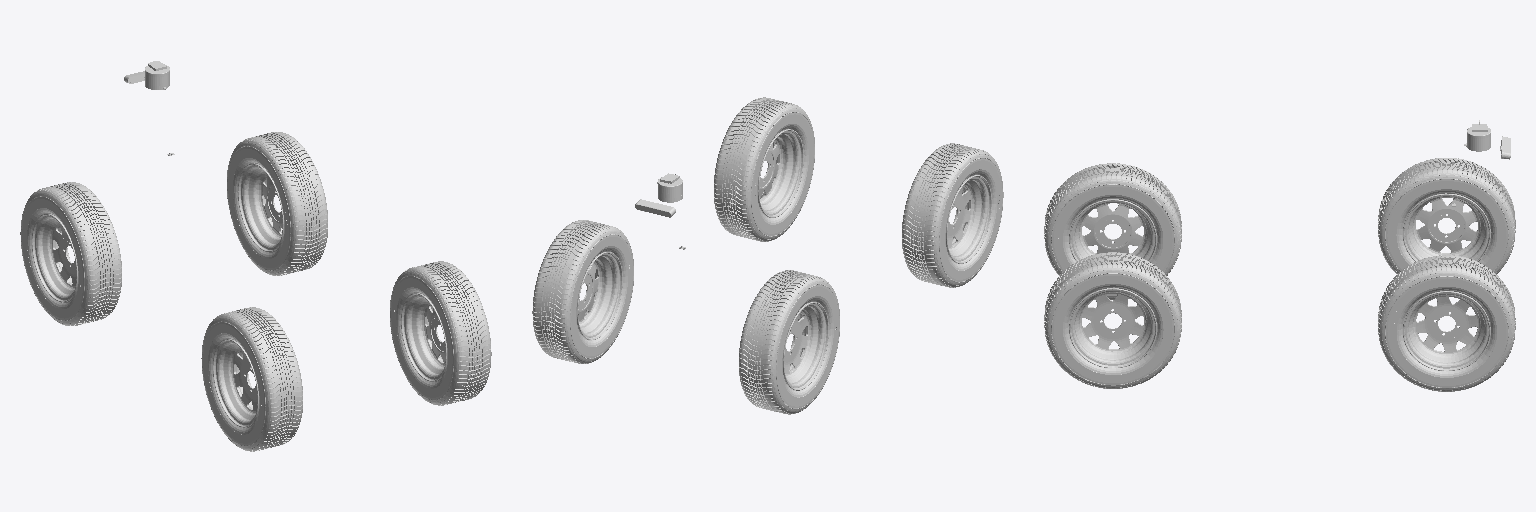
robot.urdf — RTK_Temu.SLDPRT:
<?xml version="1.0" encoding="utf-8"?>
<!-- This URDF was automatically created by SolidWorks to URDF Exporter! Originally created by Stephen Brawner (brawner@gmail.com) 
     Commit Version: 1.6.0-4-g7f85cfe  Build Version: 1.6.7995.38578
     For more information, please see http://wiki.ros.org/sw_urdf_exporter -->
<robot
  name="RTK_Temu.SLDPRT">
  <link
    name="Chasis_link">
    <inertial>
      <origin
        xyz="-0.0222986727626558 -0.103538876994477 0.130202562302216"
        rpy="0 0 0" />
      <mass
        value="30.2192194697933" />
      <inertia
        ixx="1.1404114097681"
        ixy="0.0547930702310783"
        ixz="0.0201944026363161"
        iyy="0.409771420291759"
        iyz="-0.0194016060635621"
        izz="1.45153548756467" />
    </inertial>
    <visual>
      <origin
        xyz="0 0 0"
        rpy="0 0 0" />
      <geometry>
        <mesh
          filename="package://RTK_Temu.SLDPRT/meshes/Chasis_link.STL" />
      </geometry>
      <material
        name="">
        <color
          rgba="0.894117647058823 0.894117647058823 0.894117647058823 1" />
      </material>
    </visual>
    <collision>
      <origin
        xyz="0 0 0"
        rpy="0 0 0" />
      <geometry>
        <mesh
          filename="package://RTK_Temu.SLDPRT/meshes/Chasis_link.STL" />
      </geometry>
    </collision>
  </link>
  <link
    name="front_right_wheel_link">
    <inertial>
      <origin
        xyz="-0.00566401631473373 9.90724435080415E-05 -0.000271963367299288"
        rpy="0 0 0" />
      <mass
        value="6.69183973985027" />
      <inertia
        ixx="0.357347212224778"
        ixy="-1.07740917030233E-07"
        ixz="4.64182261268584E-05"
        iyy="0.204903978015561"
        iyz="4.80243600331509E-06"
        izz="0.204920649676514" />
    </inertial>
    <visual>
      <origin
        xyz="0 0 0"
        rpy="0 0 0" />
      <geometry>
        <mesh
          filename="package://RTK_Temu.SLDPRT/meshes/front_right_wheel_link.STL" />
      </geometry>
      <material
        name="">
        <color
          rgba="0.894117647058823 0.894117647058823 0.894117647058823 1" />
      </material>
    </visual>
    <collision>
      <origin
        xyz="0 0 0"
        rpy="0 0 0" />
      <geometry>
        <mesh
          filename="package://RTK_Temu.SLDPRT/meshes/front_right_wheel_link.STL" />
      </geometry>
    </collision>
  </link>
  <joint
    name="front_right_wheel_joint"
    type="continuous">
    <origin
      xyz="0.49047 0.7137 0.045273"
      rpy="0 0.00030616 0" />
    <parent
      link="Chasis_link" />
    <child
      link="front_right_wheel_link" />
    <axis
      xyz="-1 0 -0.00030616" />
    <dynamics
      damping="0.5"
      friction="1" />
  </joint>
  <link
    name="front_left_wheel_link">
    <inertial>
      <origin
        xyz="0.00566402902001811 0.000174876625691156 0.000230333408740846"
        rpy="0 0 0" />
      <mass
        value="6.69183974290597" />
      <inertia
        ixx="0.357347211995644"
        ixy="2.73805309929157E-08"
        ixz="4.63975052563284E-05"
        iyy="0.204902723124111"
        iyz="7.69970830090359E-07"
        izz="0.204921904315497" />
    </inertial>
    <visual>
      <origin
        xyz="0 0 0"
        rpy="0 0 0" />
      <geometry>
        <mesh
          filename="package://RTK_Temu.SLDPRT/meshes/front_left_wheel_link.STL" />
      </geometry>
      <material
        name="">
        <color
          rgba="0.894117647058823 0.894117647058823 0.894117647058823 1" />
      </material>
    </visual>
    <collision>
      <origin
        xyz="0 0 0"
        rpy="0 0 0" />
      <geometry>
        <mesh
          filename="package://RTK_Temu.SLDPRT/meshes/front_left_wheel_link.STL" />
      </geometry>
    </collision>
  </link>
  <joint
    name="front_left_wheel_joint"
    type="continuous">
    <origin
      xyz="-0.48953 0.71363 0.044772"
      rpy="0 0.00030616 0" />
    <parent
      link="Chasis_link" />
    <child
      link="front_left_wheel_link" />
    <axis
      xyz="1 0 0.00030616" />
    <dynamics
      damping="0.5"
      friction="1" />
  </joint>
  <link
    name="rear_right_wheel_link">
    <inertial>
      <origin
        xyz="-0.00566416893167465 -0.000175443022534916 0.000226429859826904"
        rpy="0 0 0" />
      <mass
        value="6.69183959859615" />
      <inertia
        ixx="0.357347210530256"
        ixy="2.71918139990335E-08"
        ixz="4.69355611226319E-05"
        iyy="0.204902726766514"
        iyz="-8.1768483672708E-07"
        izz="0.204921899865492" />
    </inertial>
    <visual>
      <origin
        xyz="0 0 0"
        rpy="0 0 0" />
      <geometry>
        <mesh
          filename="package://RTK_Temu.SLDPRT/meshes/rear_right_wheel_link.STL" />
      </geometry>
      <material
        name="">
        <color
          rgba="0.894117647058823 0.894117647058823 0.894117647058823 1" />
      </material>
    </visual>
    <collision>
      <origin
        xyz="0 0 0"
        rpy="0 0 0" />
      <geometry>
        <mesh
          filename="package://RTK_Temu.SLDPRT/meshes/rear_right_wheel_link.STL" />
      </geometry>
    </collision>
  </link>
  <joint
    name="rear_right_wheel_joint"
    type="continuous">
    <origin
      xyz="0.44847 -0.686 0.038273"
      rpy="0 0.00030616 0" />
    <parent
      link="Chasis_link" />
    <child
      link="rear_right_wheel_link" />
    <axis
      xyz="-1 0 -0.00030616" />
    <dynamics
      damping="0.5"
      friction="1" />
  </joint>
  <link
    name="rear_left_wheel_link">
    <inertial>
      <origin
        xyz="0.00566398917654387 0.000167290260409625 0.000236661415633888"
        rpy="0 0 0" />
      <mass
        value="6.69183133120593" />
      <inertia
        ixx="0.357347200837873"
        ixy="3.34915201437461E-08"
        ixz="4.63916616915813E-05"
        iyy="0.20490267191407"
        iyz="1.3681642636337E-07"
        izz="0.204921942432232" />
    </inertial>
    <visual>
      <origin
        xyz="0 0 0"
        rpy="0 0 0" />
      <geometry>
        <mesh
          filename="package://RTK_Temu.SLDPRT/meshes/rear_left_wheel_link.STL" />
      </geometry>
      <material
        name="">
        <color
          rgba="0.894117647058823 0.894117647058823 0.894117647058823 1" />
      </material>
    </visual>
    <collision>
      <origin
        xyz="0 0 0"
        rpy="0 0 0" />
      <geometry>
        <mesh
          filename="package://RTK_Temu.SLDPRT/meshes/rear_left_wheel_link.STL" />
      </geometry>
    </collision>
  </link>
  <joint
    name="rear_left_wheel_joint"
    type="continuous">
    <origin
      xyz="-0.44753 -0.68637 0.038266"
      rpy="0 0.00030616 0" />
    <parent
      link="Chasis_link" />
    <child
      link="rear_left_wheel_link" />
    <axis
      xyz="1 0 0.00030616" />
    <dynamics
      damping="0.5"
      friction="1" />
  </joint>
  <link
    name="Imu_link">
    <inertial>
      <origin
        xyz="-0.000416200824923964 8.95467721959697E-05 -0.000586751245583366"
        rpy="0 0 0" />
      <mass
        value="0.00098313018365204" />
      <inertia
        ixx="2.72780814792229E-08"
        ixy="1.86463715352667E-11"
        ixz="-1.83135757569235E-11"
        iyy="4.80453464098758E-08"
        iyz="-1.81575171892398E-12"
        izz="7.48563776021965E-08" />
    </inertial>
    <visual>
      <origin
        xyz="0 0 0"
        rpy="0 0 0" />
      <geometry>
        <mesh
          filename="package://RTK_Temu.SLDPRT/meshes/Imu_link.STL" />
      </geometry>
      <material
        name="">
        <color
          rgba="0.894117647058823 0.894117647058823 0.894117647058823 1" />
      </material>
    </visual>
    <collision>
      <origin
        xyz="0 0 0"
        rpy="0 0 0" />
      <geometry>
        <mesh
          filename="package://RTK_Temu.SLDPRT/meshes/Imu_link.STL" />
      </geometry>
    </collision>
  </link>
  <joint
    name="Imu_joint"
    type="fixed">
    <origin
      xyz="0.00070051 0.74389 0.36865"
      rpy="0 0 0" />
    <parent
      link="Chasis_link" />
    <child
      link="Imu_link" />
    <axis
      xyz="0 0 0" />
  </joint>
  <link
    name="Lidar-link">
    <inertial>
      <origin
        xyz="-3.28690208511073E-06 -0.000102129182461219 -0.00210332287127607"
        rpy="0 0 0" />
      <mass
        value="0.605610172285068" />
      <inertia
        ixx="0.000670924675018133"
        ixy="1.75257333255553E-11"
        ixz="-6.6763716542643E-08"
        iyy="0.000667040712181602"
        iyz="-1.8128946176005E-06"
        izz="0.000804073841920665" />
    </inertial>
    <visual>
      <origin
        xyz="0 0 0"
        rpy="0 0 0" />
      <geometry>
        <mesh
          filename="package://RTK_Temu.SLDPRT/meshes/Lidar-link.STL" />
      </geometry>
      <material
        name="">
        <color
          rgba="0.894117647058823 0.894117647058823 0.894117647058823 1" />
      </material>
    </visual>
    <collision>
      <origin
        xyz="0 0 0"
        rpy="0 0 0" />
      <geometry>
        <mesh
          filename="package://RTK_Temu.SLDPRT/meshes/Lidar-link.STL" />
      </geometry>
    </collision>
  </link>
  <joint
    name="Lidar_joint"
    type="fixed">
    <origin
      xyz="-0.0011917 0.84916 0.67618"
      rpy="0 0.00030616 0" />
    <parent
      link="Chasis_link" />
    <child
      link="Lidar-link" />
    <axis
      xyz="0 0 0" />
  </joint>
  <link
    name="ZED_link">
    <inertial>
      <origin
        xyz="4.01008458317514E-07 0.000992634620824995 -0.00109846133983421"
        rpy="0 0 0" />
      <mass
        value="0.170322699192855" />
      <inertia
        ixx="3.25740976915344E-05"
        ixy="-3.48012487305273E-09"
        ixz="-7.84819532822551E-10"
        iyy="0.000383152093335362"
        iyz="1.25165691846446E-06"
        izz="0.000390407240953197" />
    </inertial>
    <visual>
      <origin
        xyz="0 0 0"
        rpy="0 0 0" />
      <geometry>
        <mesh
          filename="package://RTK_Temu.SLDPRT/meshes/ZED_link.STL" />
      </geometry>
      <material
        name="">
        <color
          rgba="0.894117647058823 0.894117647058823 0.894117647058823 1" />
      </material>
    </visual>
    <collision>
      <origin
        xyz="0 0 0"
        rpy="0 0 0" />
      <geometry>
        <mesh
          filename="package://RTK_Temu.SLDPRT/meshes/ZED_link.STL" />
      </geometry>
    </collision>
  </link>
  <joint
    name="ZED_joint"
    type="fixed">
    <origin
      xyz="0.0028913 0.96093 0.633"
      rpy="0 0.00030616 0" />
    <parent
      link="Chasis_link" />
    <child
      link="ZED_link" />
    <axis
      xyz="0 0 0" />
  </joint>
  <link
    name="RTK_link">
    <inertial>
      <origin
        xyz="-6.21704556298401E-05 -4.01408025252348E-06 9.84372148865598E-06"
        rpy="0 0 0" />
      <mass
        value="0.0350564949343592" />
      <inertia
        ixx="1.32966912963313E-05"
        ixy="-2.4850045235485E-07"
        ixz="2.51600692375413E-08"
        iyy="8.28243023213713E-06"
        iyz="1.60097268930069E-09"
        izz="2.09515010390878E-05" />
    </inertial>
    <visual>
      <origin
        xyz="0 0 0"
        rpy="0 0 0" />
      <geometry>
        <mesh
          filename="package://RTK_Temu.SLDPRT/meshes/RTK_link.STL" />
      </geometry>
      <material
        name="">
        <color
          rgba="0.894117647058823 0.894117647058823 0.894117647058823 1" />
      </material>
    </visual>
    <collision>
      <origin
        xyz="0 0 0"
        rpy="0 0 0" />
      <geometry>
        <mesh
          filename="package://RTK_Temu.SLDPRT/meshes/RTK_link.STL" />
      </geometry>
    </collision>
  </link>
  <joint
    name="RTK_joint"
    type="fixed">
    <origin
      xyz="-0.0014412 0.8515 0.7225"
      rpy="0 0.00030616 0" />
    <parent
      link="Chasis_link" />
    <child
      link="RTK_link" />
    <axis
      xyz="0 0 0" />
  </joint>
</robot>

--- Facts derived from the render (not from the file) ---
3 views of the same robot in one strip: view 1: azimuth 30°, elevation 25°; view 2: azimuth 150°, elevation 25°; view 3: azimuth 270°, elevation 25° (orthographic).
Robot: RTK_Temu.SLDPRT — 9 links, 8 joints (4 continuous, 4 fixed); root link Chasis_link; default pose: every joint at zero.
Links seen in each view (by area): view 1: rear_right_wheel_link, front_left_wheel_link, rear_left_wheel_link, front_right_wheel_link; view 2: rear_left_wheel_link, front_right_wheel_link, rear_right_wheel_link, front_left_wheel_link; view 3: rear_right_wheel_link, front_right_wheel_link, front_left_wheel_link, rear_left_wheel_link.
Boxes of the visible links, x1,y1,x2,y2 form: rear_right_wheel_link: [390, 261, 491, 405]; front_left_wheel_link: [20, 182, 121, 325]; rear_left_wheel_link: [201, 307, 302, 451]; front_right_wheel_link: [227, 132, 327, 275]; rear_left_wheel_link: [902, 143, 1003, 287]; front_right_wheel_link: [532, 220, 633, 363]; rear_right_wheel_link: [714, 97, 814, 241]; front_left_wheel_link: [739, 270, 839, 414]; rear_right_wheel_link: [1044, 252, 1181, 388]; front_right_wheel_link: [1378, 255, 1515, 391]; front_left_wheel_link: [1378, 158, 1515, 273]; rear_left_wheel_link: [1044, 163, 1181, 299].
Bounding box of the posed robot: 1.14 × 1.98 × 0.998 m (x, y, z).
8 mesh visuals loaded from 9 distinct referenced files (8 binary STL); not drawn: 1 (reference not matched to a file when rendering).
